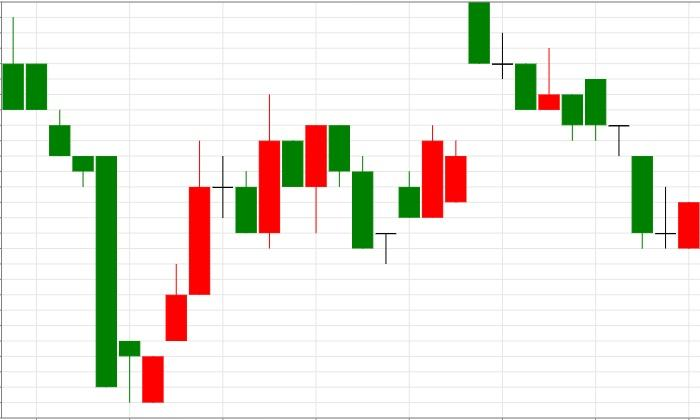bullish_engulfing_rise: (306, 124, 443, 264)
three_white_soldiers_rise: (2, 17, 210, 403)
